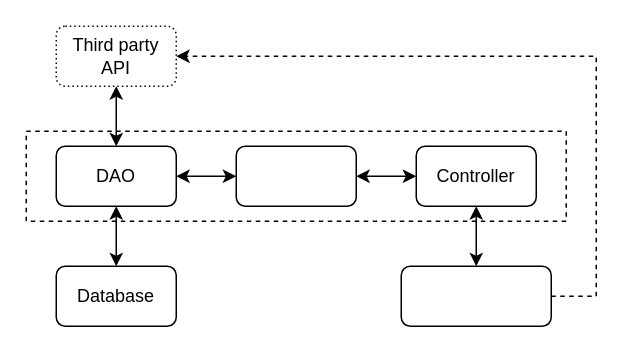
This 635x353 diagram has some shape labels left out. Here are the shapes that lost their labels. From the top down, the box of each, then its label:
(235, 145, 356, 206): Service
(400, 265, 551, 326): Postman/Client
